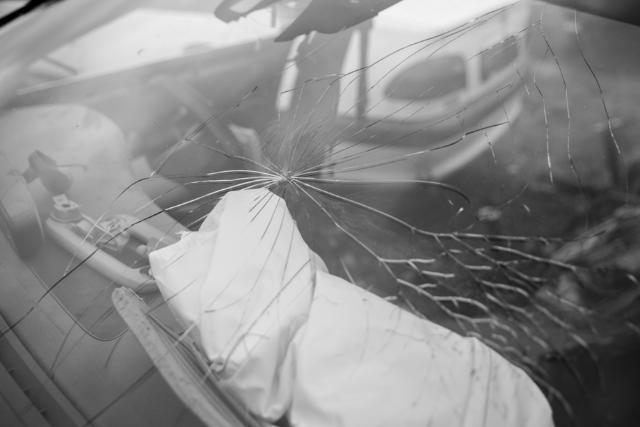Windshield: (9, 13, 640, 425)
